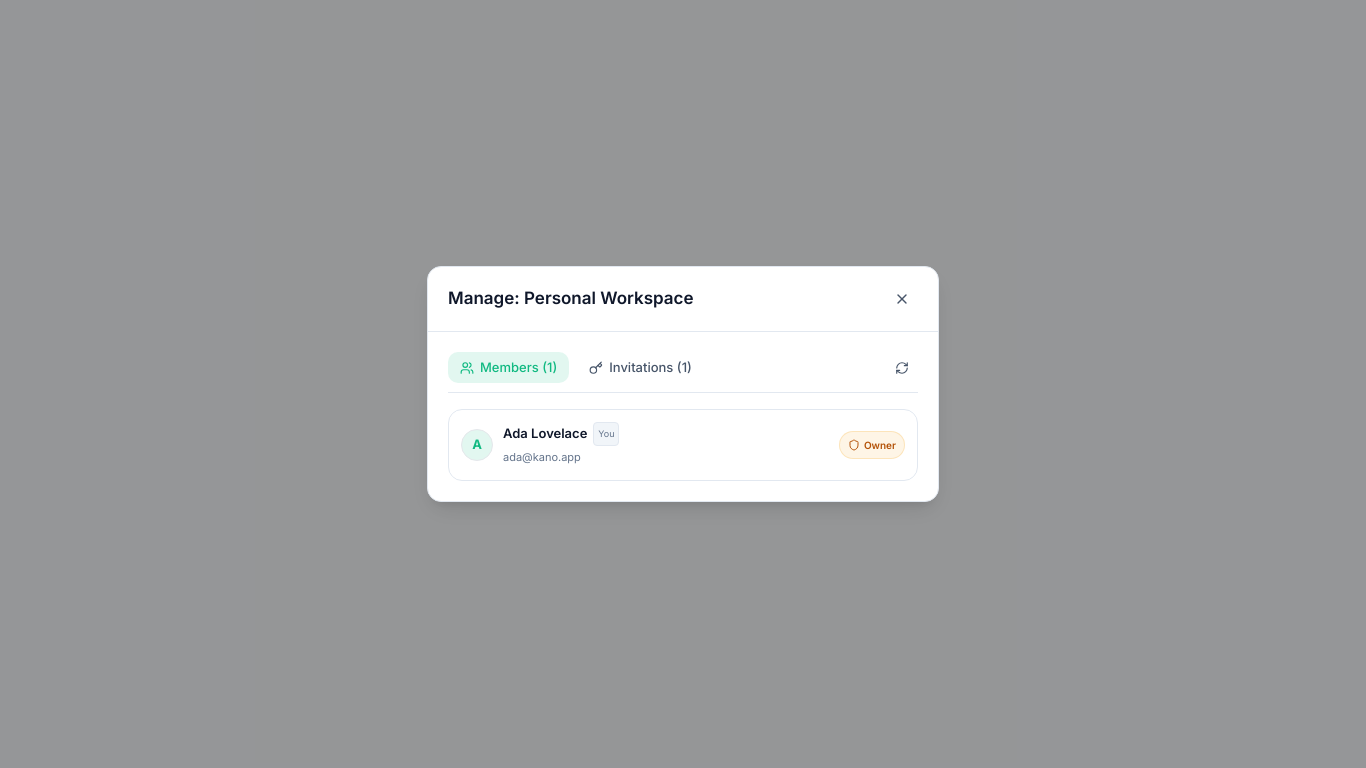
káno̱ Desktop Rooms & Membership Management › Room UI Dialogs & Switching › renders ManageMembersDialog and allows owner to generate invitations
Expected: the text "Ada Lovelace" is shown, [503,424,587,443]
Switch to Invitations tab
Click the button "Invitations (1)".
click(640, 368)  # box [577,352,704,383]
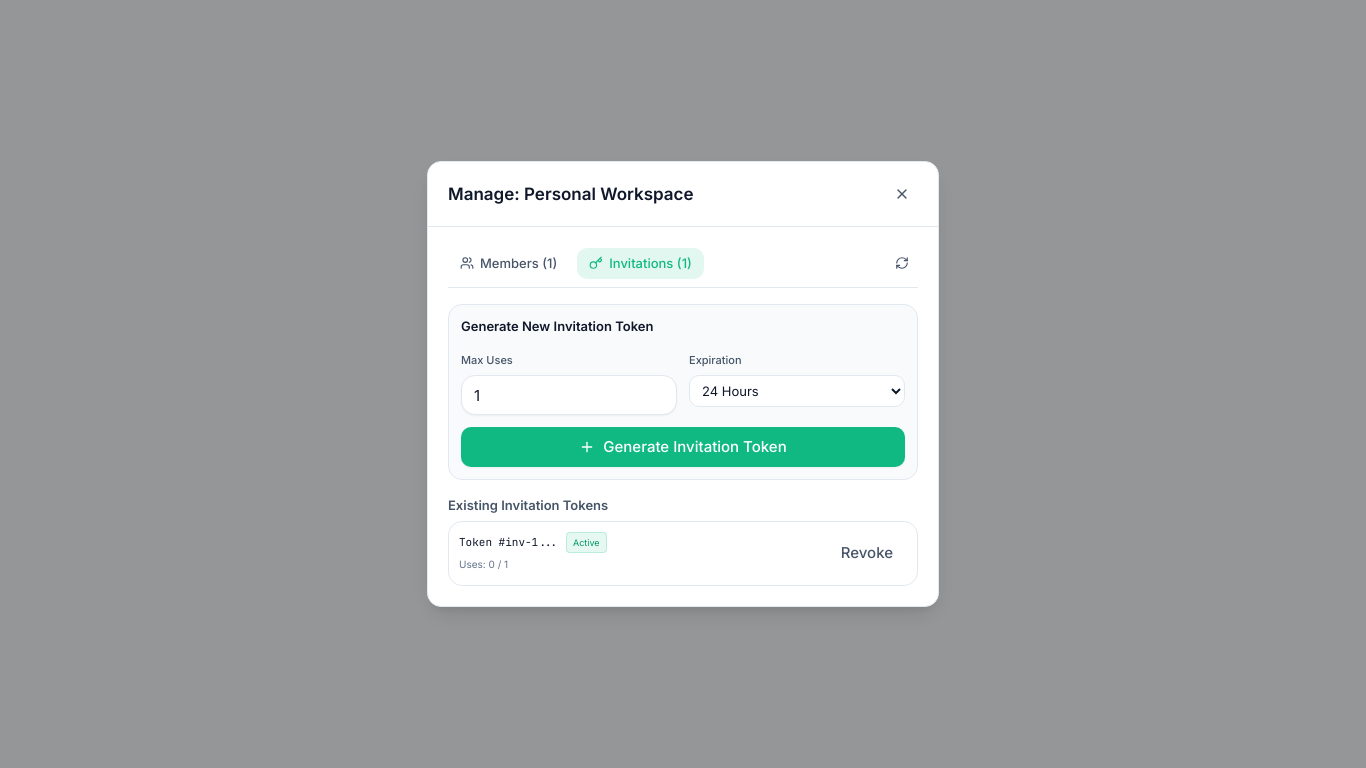
Click generate invitation token
Click the button "Generate Invitation Token".
click(683, 447)  # box [461,427,905,467]
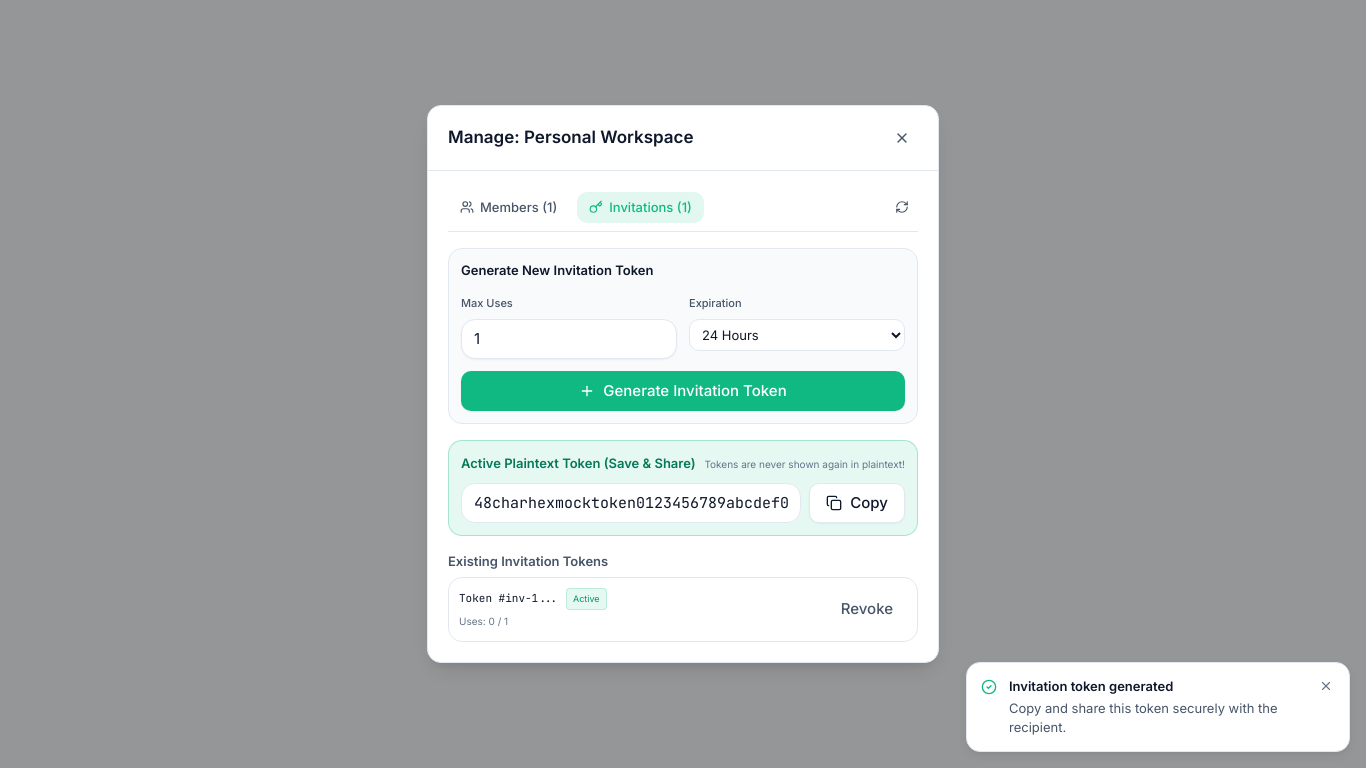
Expected: the text "Active Plaintext Token (Save & Share)" is shown, [461,454,696,474]
Expected: the button "Copy" is shown, [809,483,905,523]
